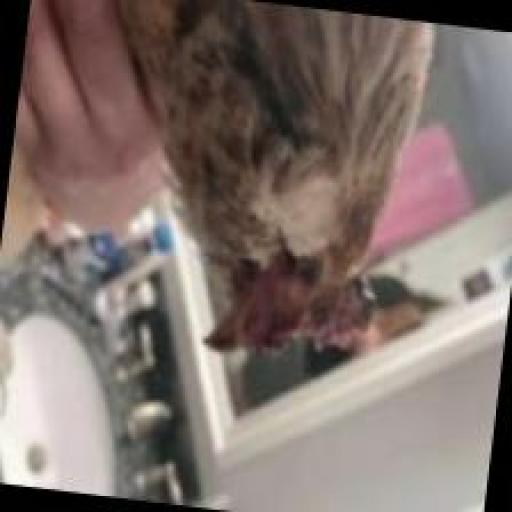disease: (182, 192, 409, 382)
